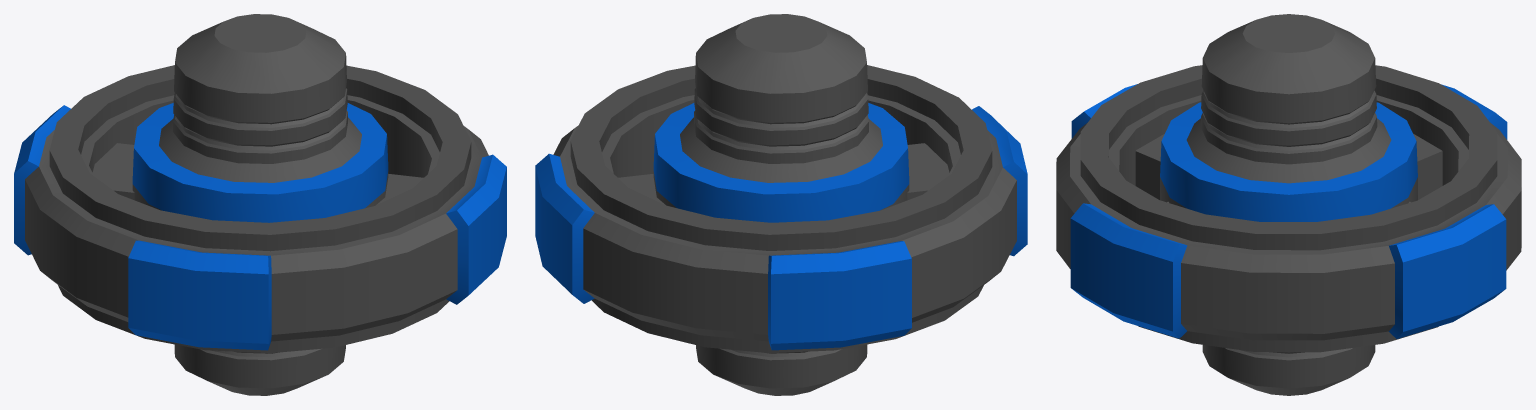
Rendered from 01_structure_supply_1x1.glb.
The picture shows the model from 3 angles, left to right: view 1: azimuth 30°, elevation 25°; view 2: azimuth 150°, elevation 25°; view 3: azimuth 270°, elevation 25°; orthographic projection.
Parts seen in each view (by area): view 1: 01_structure_supply_1x1; view 2: 01_structure_supply_1x1; view 3: 01_structure_supply_1x1.
Boxes of the visible parts, x1=… form: 01_structure_supply_1x1: x1=14, y1=14, x2=506, y2=395; 01_structure_supply_1x1: x1=535, y1=14, x2=1027, y2=395; 01_structure_supply_1x1: x1=1056, y1=14, x2=1521, y2=395.
Size of the model in its own units: 0.9895 by 0.8039 by 0.9895.
